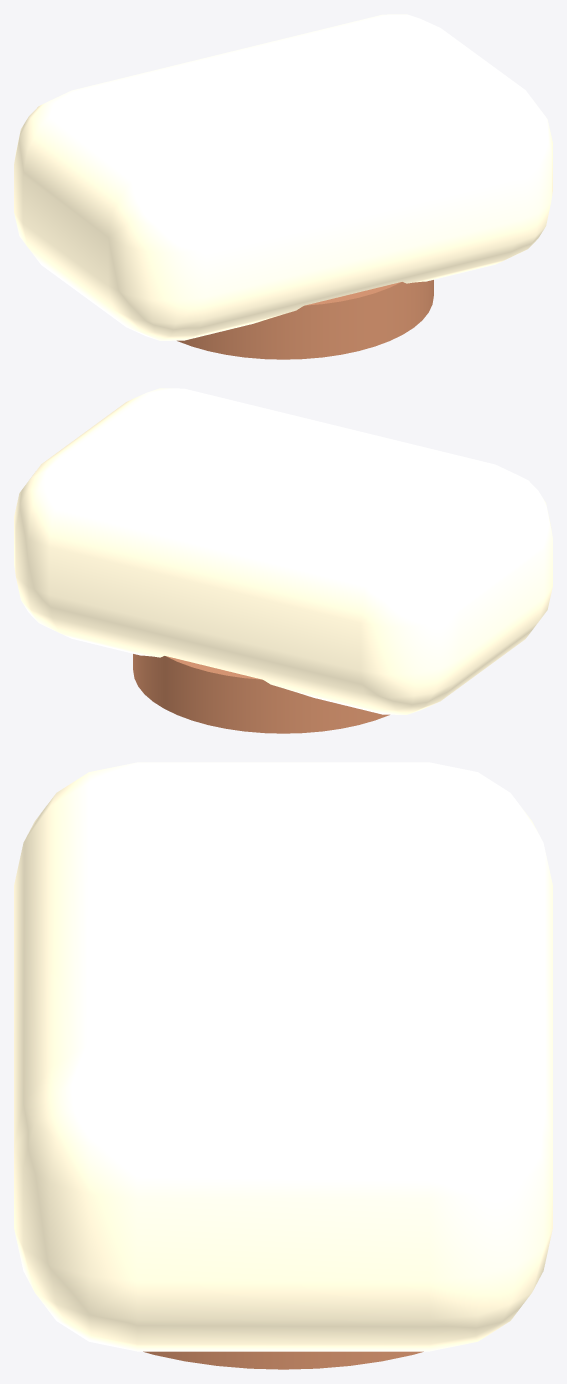
File: cloud_pouf.glb
3 renders of one model, top to bottom at view 1: azimuth 30°, elevation 25°; view 2: azimuth 150°, elevation 25°; view 3: azimuth 270°, elevation 25°, orthographic. The views are drawn at different scales.
Visible parts, largest first — view 1: cloud_pouf; view 2: cloud_pouf; view 3: cloud_pouf.
Part boxes in pixels (x1,y1,x2,y2): cloud_pouf: (14,14,552,359); cloud_pouf: (14,388,552,733); cloud_pouf: (14,762,552,1369).
Bounding box in the file's own units: 0.77 × 0.35 × 0.48.
